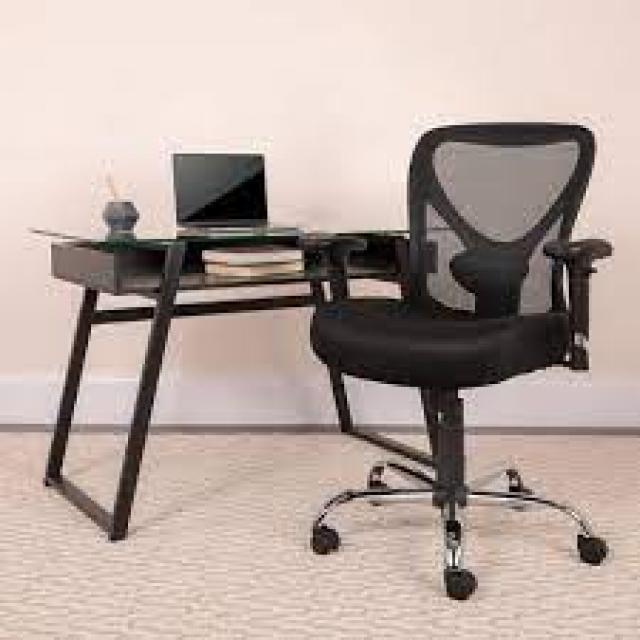chair: (308, 122, 610, 606)
